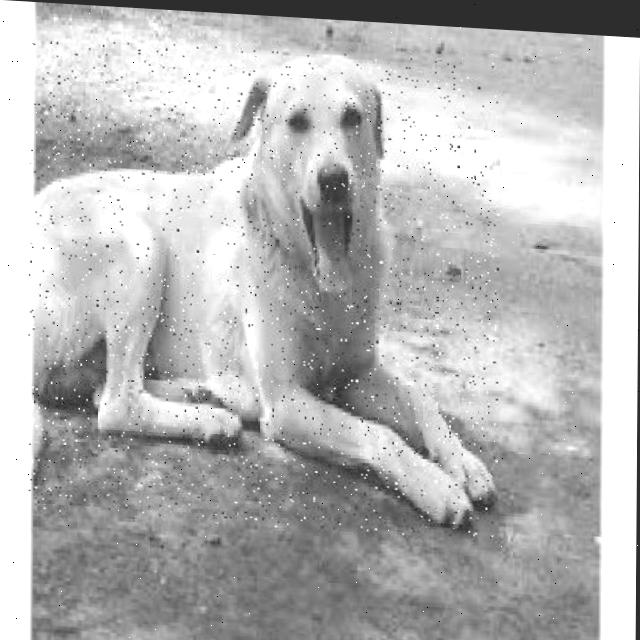Dog: (27, 36, 501, 542)
